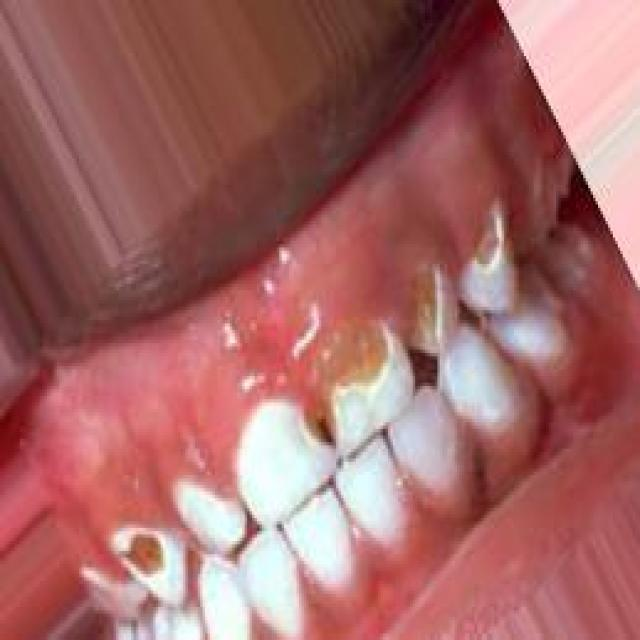caries: (324, 314, 413, 437), (106, 513, 192, 614), (464, 185, 527, 315), (406, 253, 465, 360), (293, 390, 337, 456)
